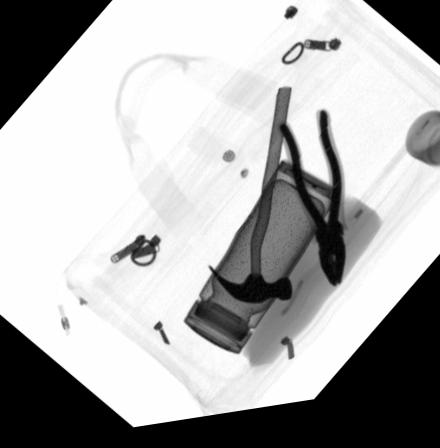Hammer: (205, 95, 290, 310)
Pliers: (274, 118, 345, 297)
